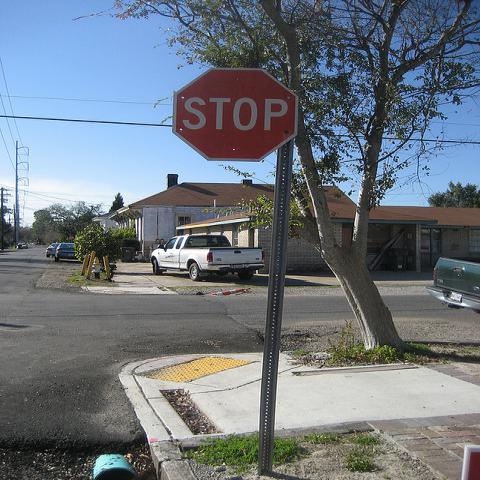car: (54, 243, 78, 262), (44, 243, 62, 258), (17, 243, 28, 249)
truck: (150, 234, 265, 281), (426, 257, 480, 315)
